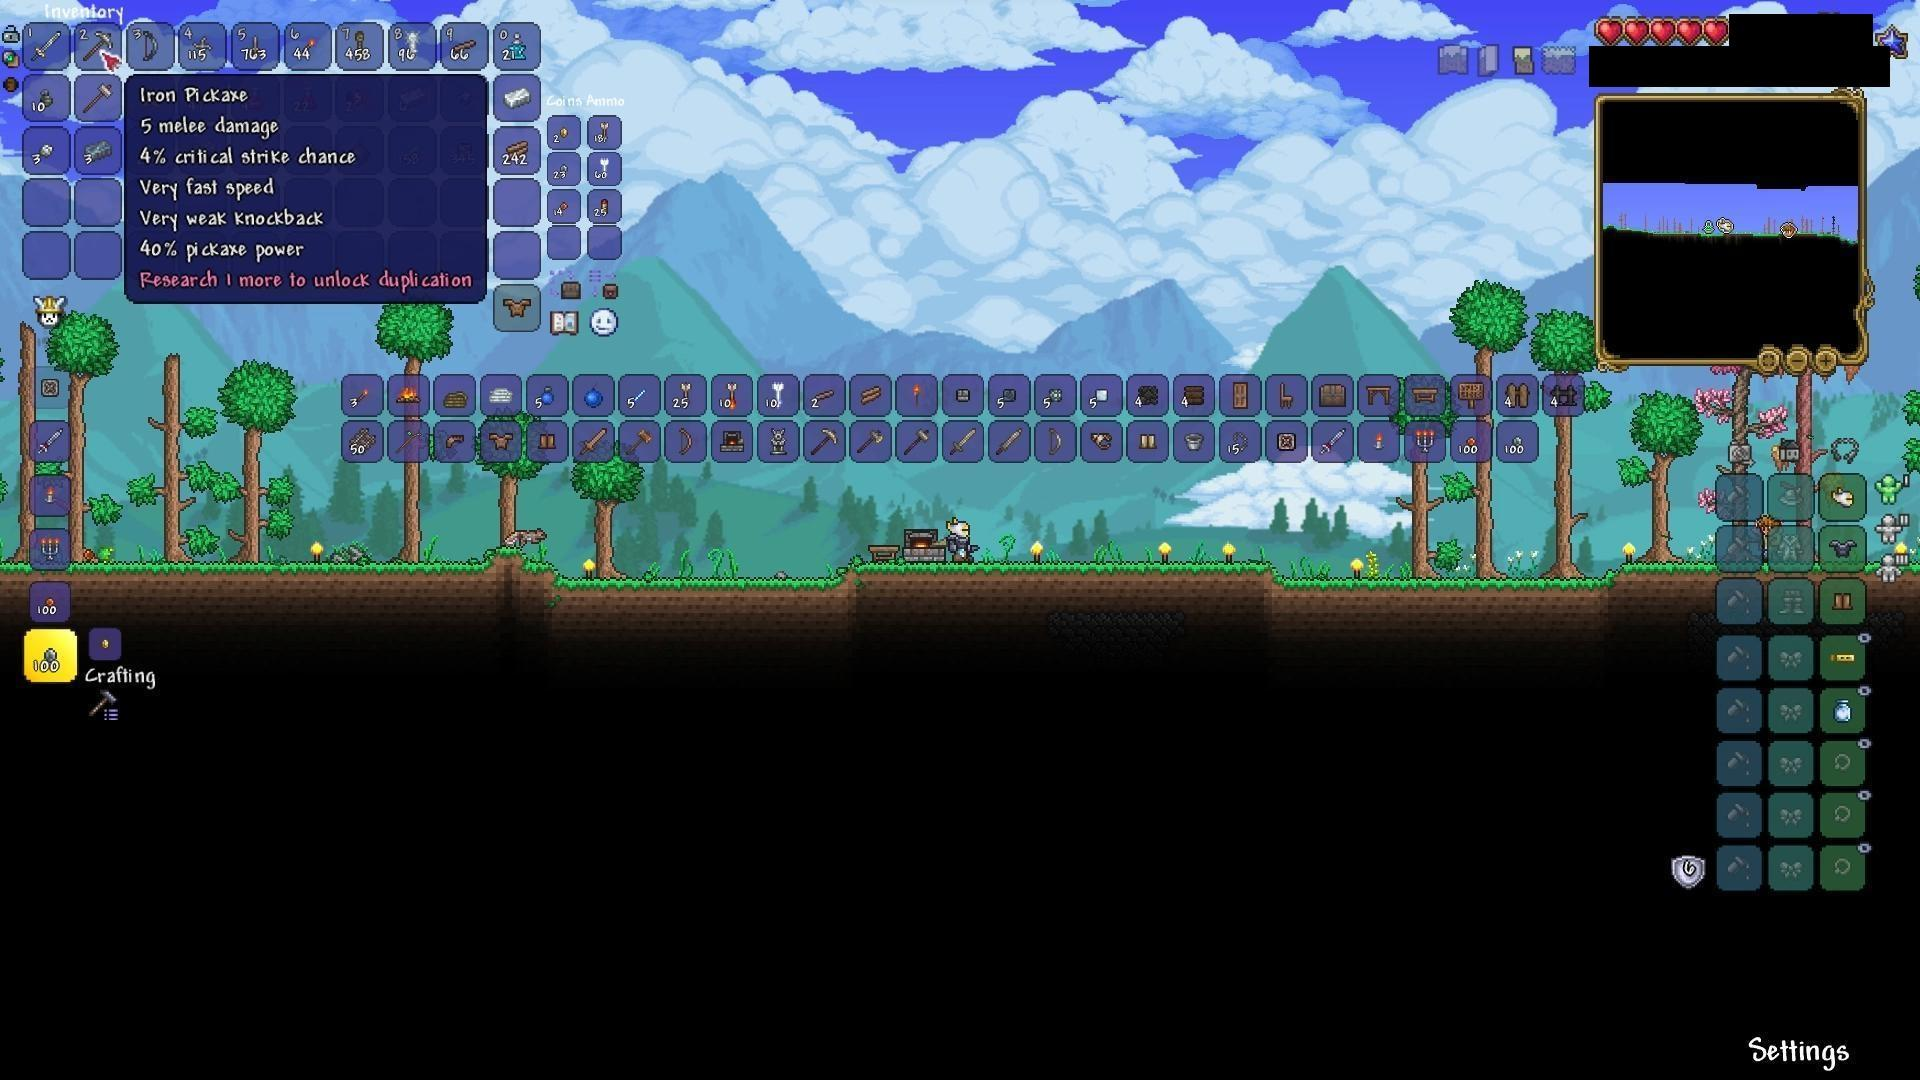dirt: (835, 558, 1262, 605), (79, 555, 487, 603), (1261, 572, 1617, 605), (563, 574, 835, 604), (473, 541, 559, 603)
heart: (1702, 17, 1733, 51), (1593, 16, 1626, 46), (1676, 15, 1704, 50), (1650, 16, 1676, 49), (1625, 15, 1651, 44)
tree: (214, 371, 303, 563), (62, 305, 127, 556), (1630, 392, 1702, 560), (146, 353, 202, 567)
